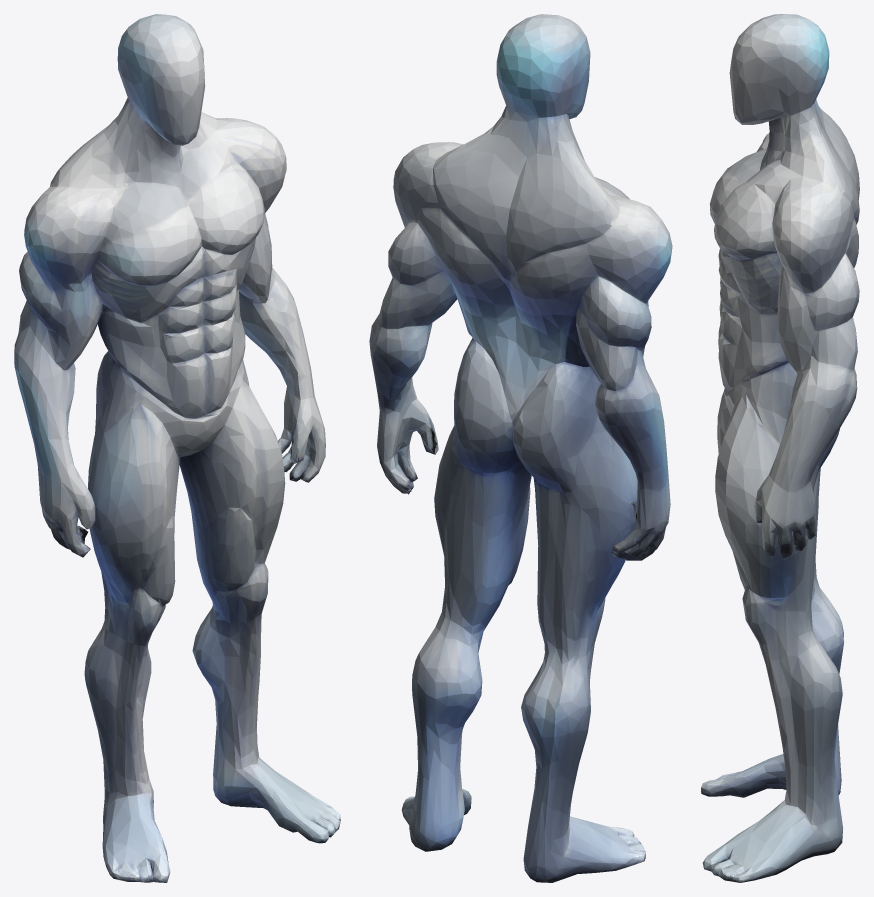
File: mannequin.glb
3 renders of one model, left to right at view 1: azimuth 30°, elevation 25°; view 2: azimuth 150°, elevation 25°; view 3: azimuth 270°, elevation 25°, orthographic. The views are drawn at different scales.
Parts seen in each view (by area): view 1: world; view 2: world; view 3: world.
Boxes of the visible parts, x1,y1,x2,y2 form: world: [14, 14, 340, 882]; world: [369, 14, 672, 882]; world: [701, 14, 859, 882].
Size of the model in its own units: 0.2545 by 0.701 by 0.127.
1 material, 1 textured.
